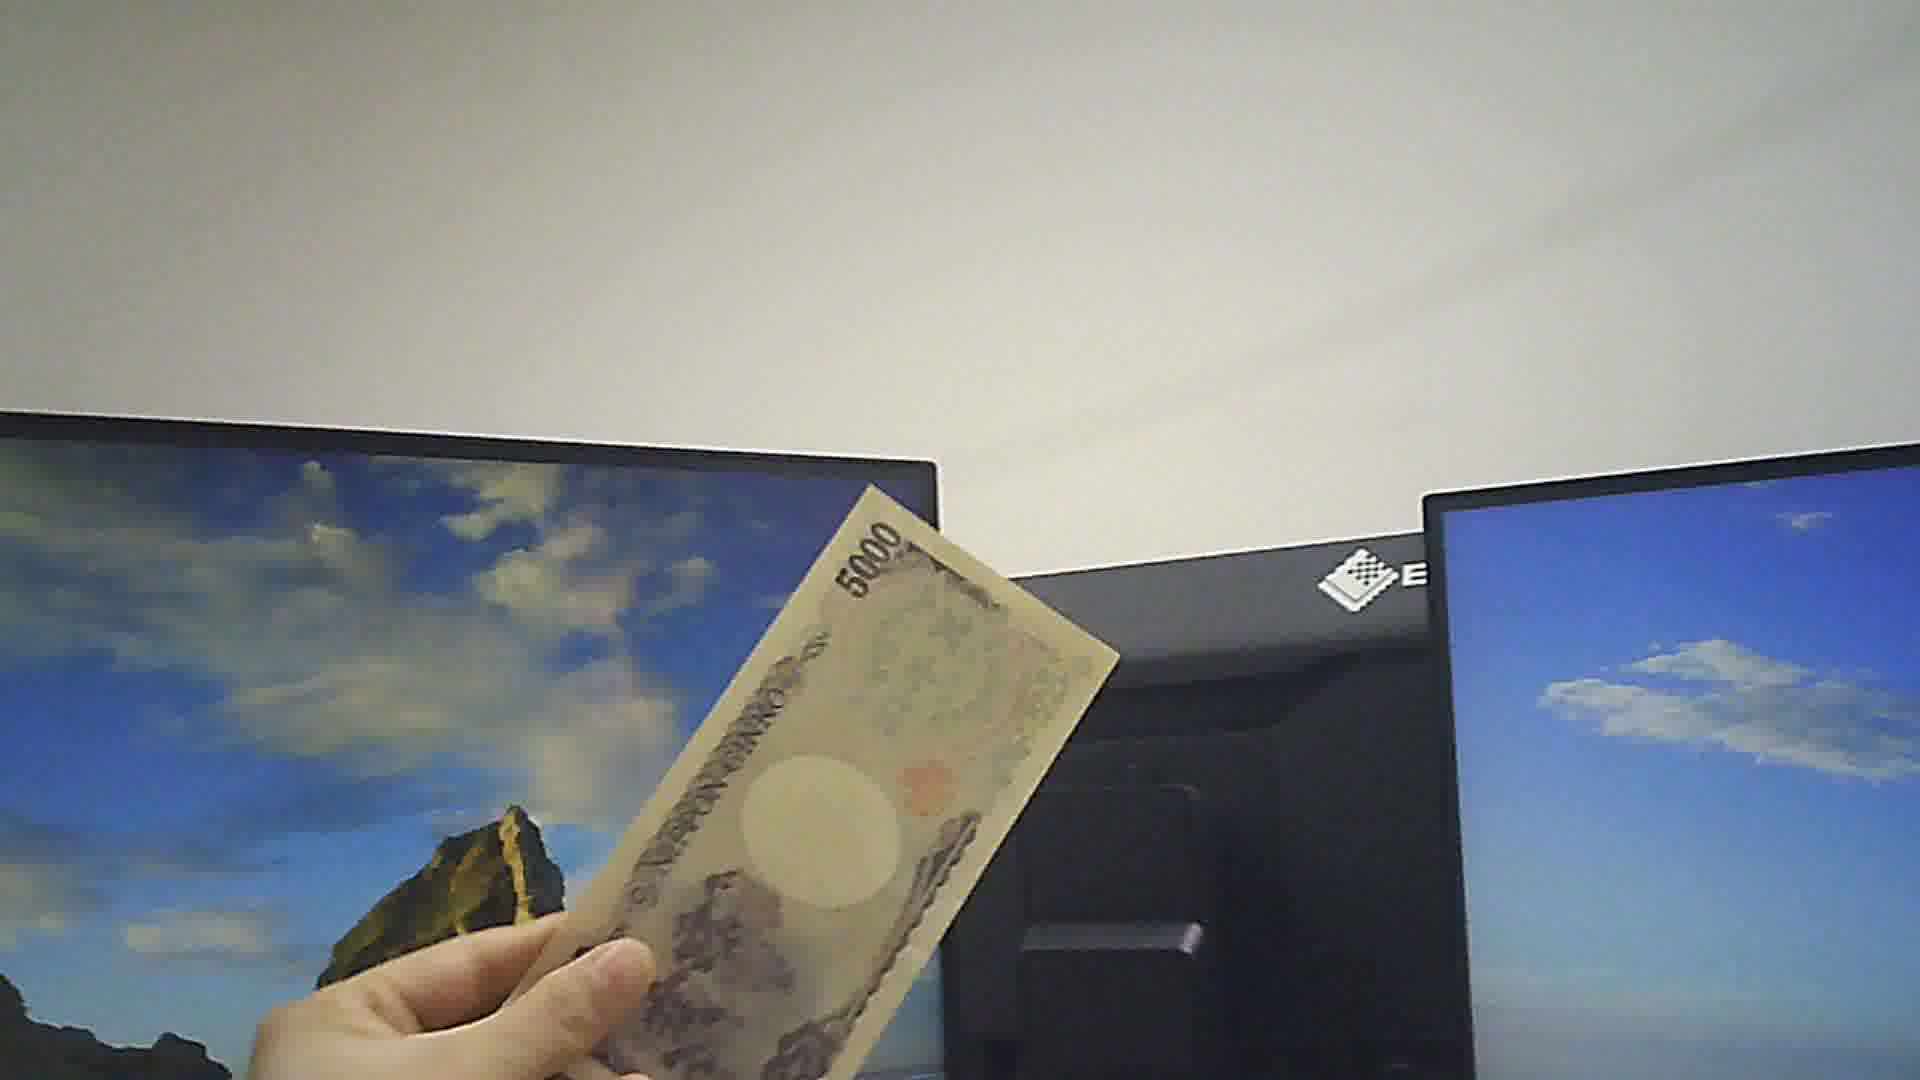5,000 Yen: (488, 493, 1114, 1079)
